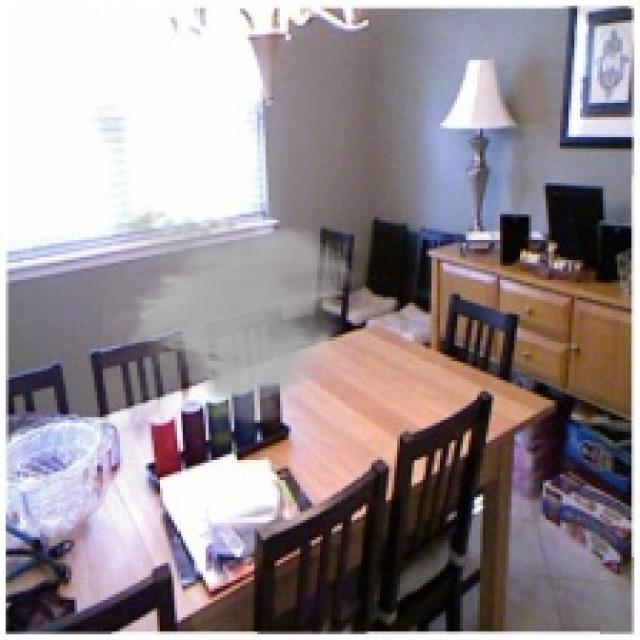smoke: (103, 203, 357, 431)
